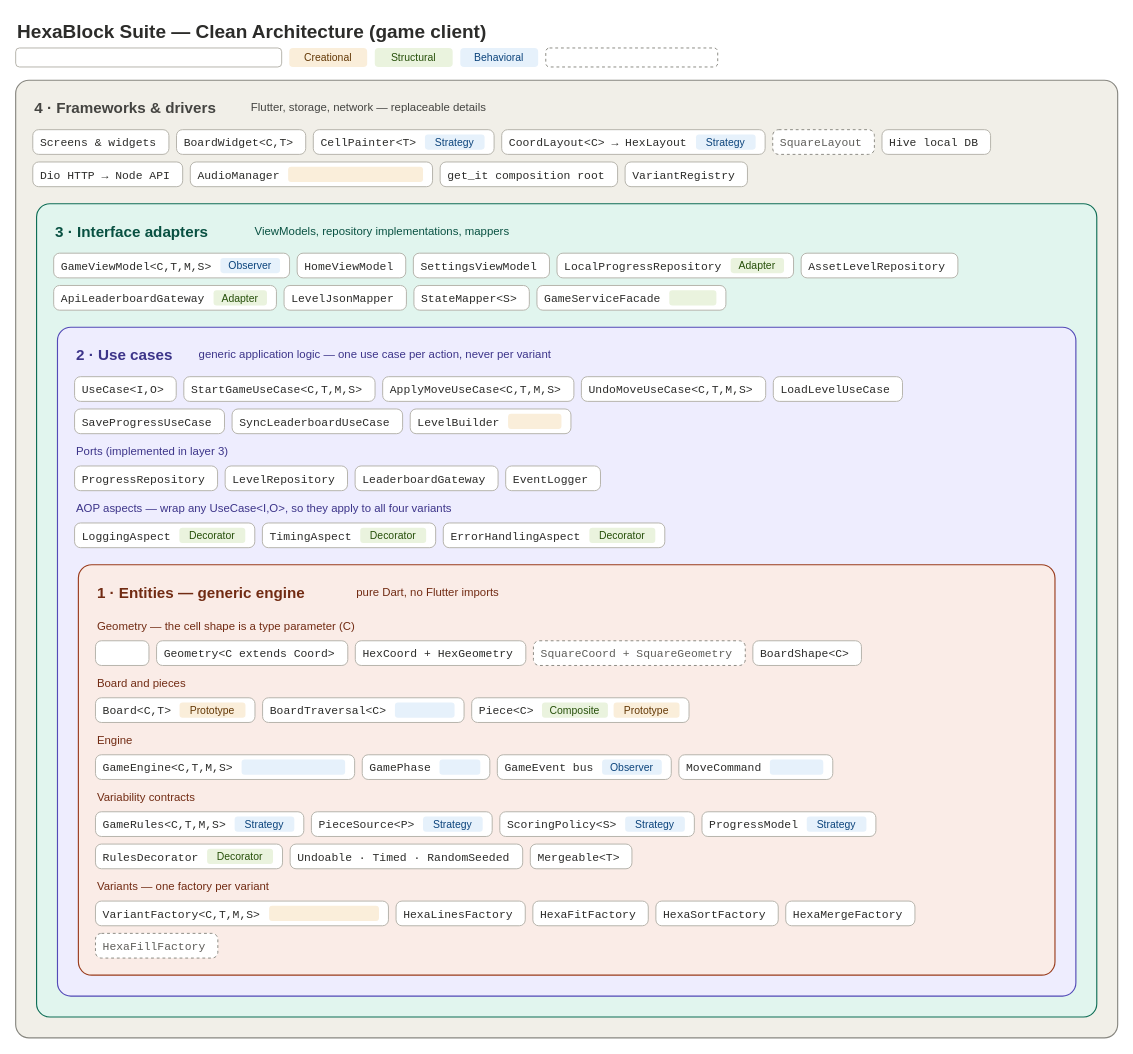
Image size: 1133x1054. Some labels were removed from this diagram. Each missing label, with the centre of its shape:
"Abstract Factory" belongs at pixel 323 913.
"Builder" belongs at pixel 534 420.
"Command" belongs at pixel 796 766.
"Coord" belongs at pixel 122 652.
"Dashed = future extension" belongs at pixel 631 57.
"Dependencies point inward: 4 → 3 → 2 → 1" belongs at pixel 148 57.
"Facade" belongs at pixel 692 297.
"Iterator" belongs at pixel 424 709.
"Singleton (DI scope)" belongs at pixel 355 173.
"State" belongs at pixel 459 766.
"Template Method" belongs at pixel 293 766.
